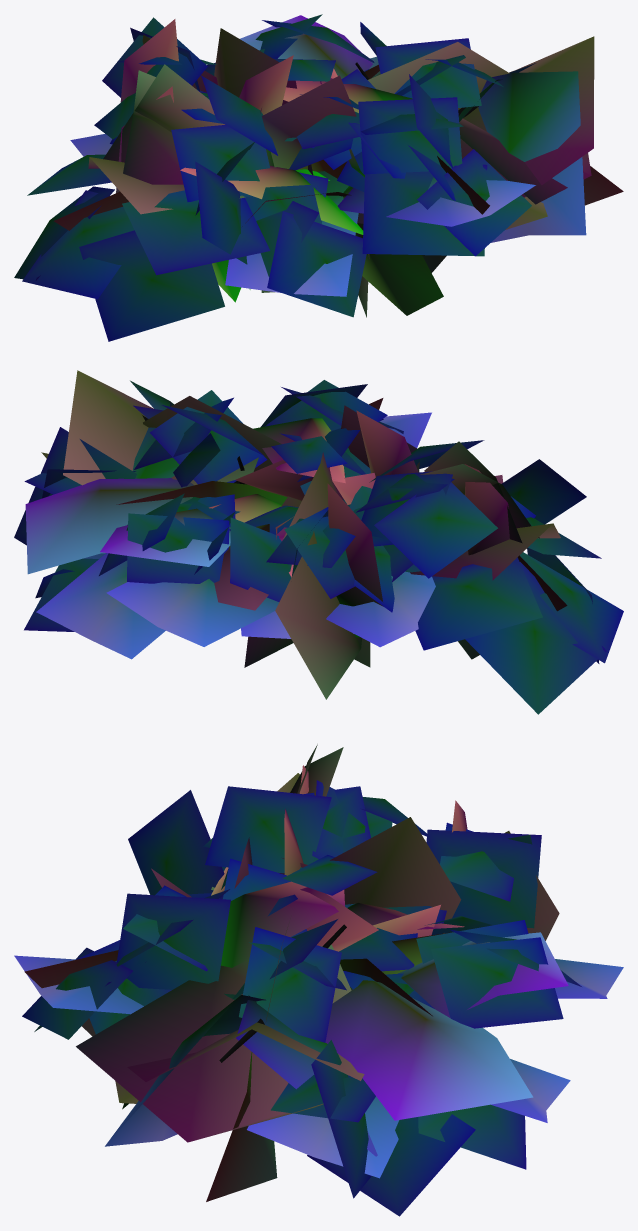
File: bush_b_wide.dae
The picture shows the model from 3 angles, top to bottom: view 1: azimuth 30°, elevation 25°; view 2: azimuth 150°, elevation 25°; view 3: azimuth 270°, elevation 25°; orthographic projection. The views are drawn at different scales.
Visible parts, largest first — view 1: bush_b_wide; view 2: bush_b_wide; view 3: bush_b_wide.
Part boxes in pixels (x1=…): bush_b_wide: x1=14, y1=14, x2=623, y2=341; bush_b_wide: x1=14, y1=370, x2=623, y2=714; bush_b_wide: x1=14, y1=744, x2=623, y2=1216.
Size of the model in its own units: 3.38 by 2.72 by 1.43.
